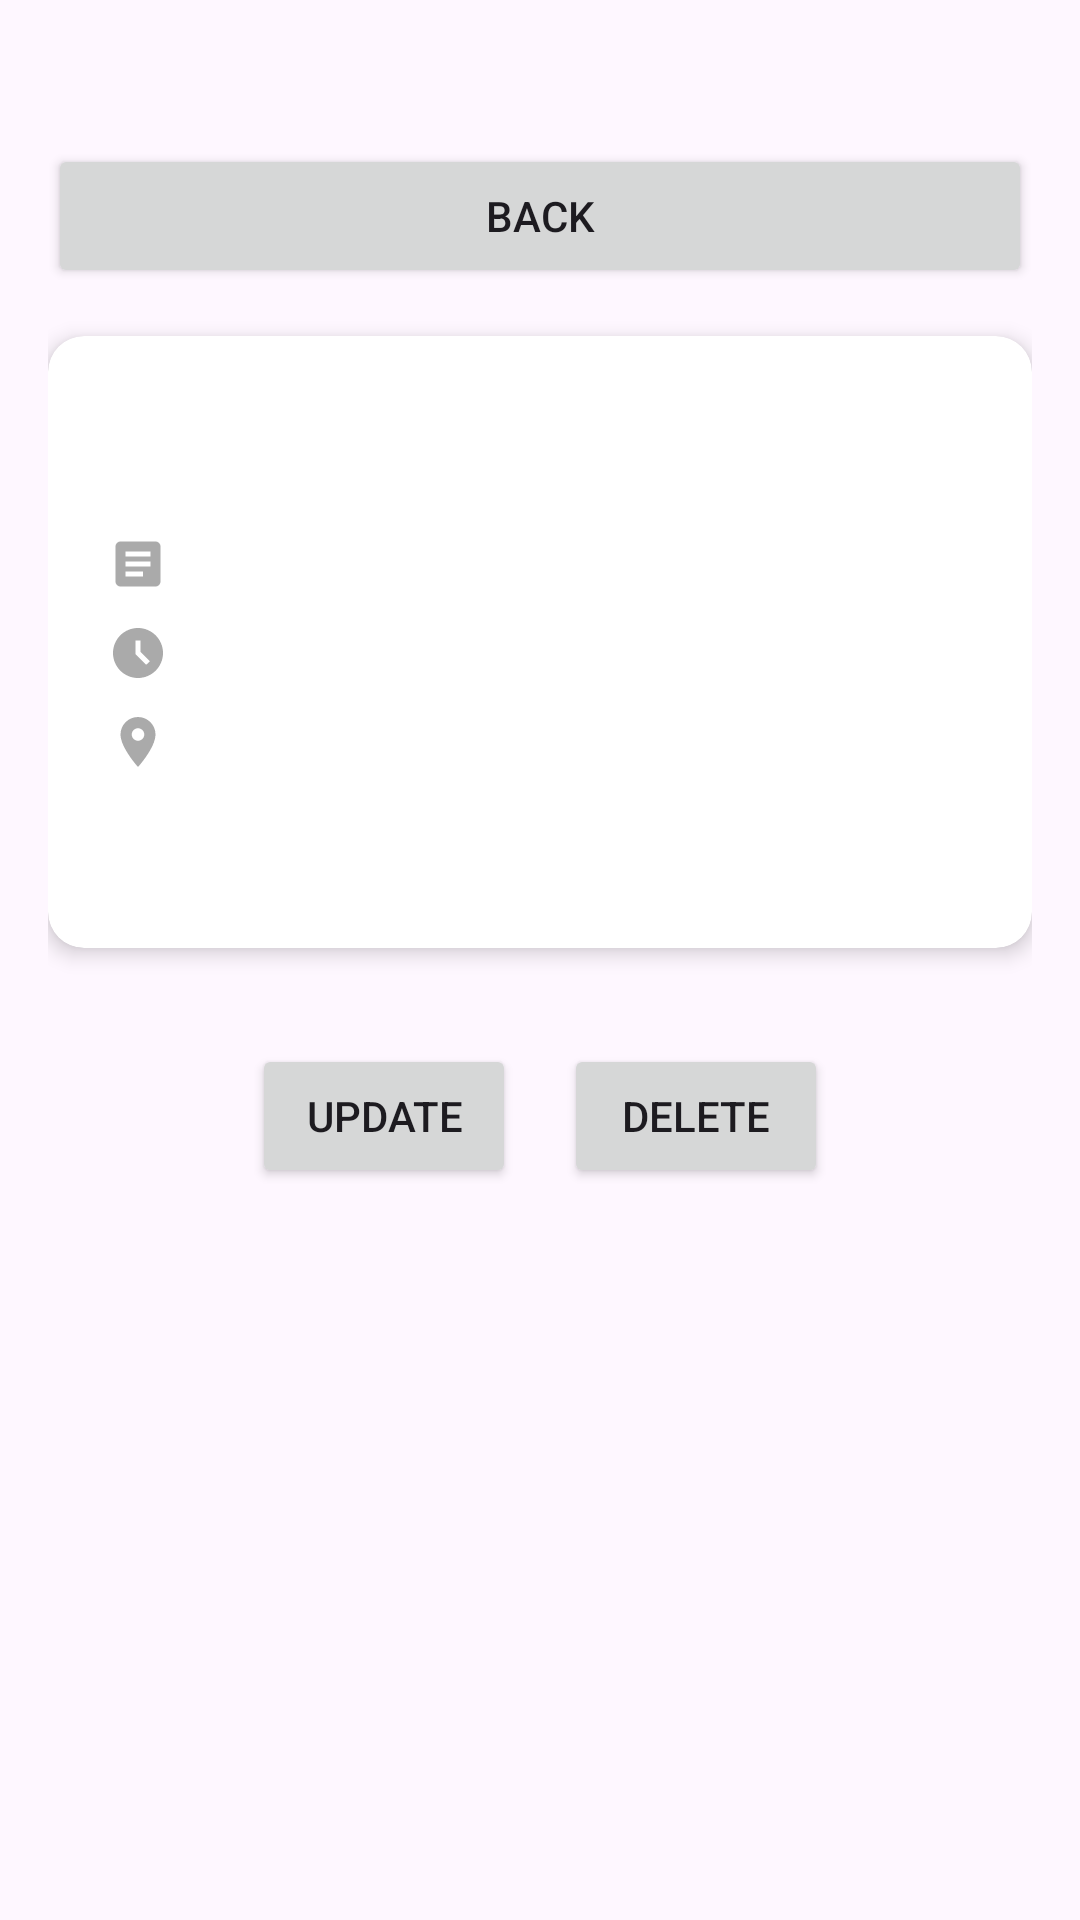

Where to tap for icons on this 1080x1920 app screen, as point (x, y):
location: point (138, 742)
time: point (138, 653)
